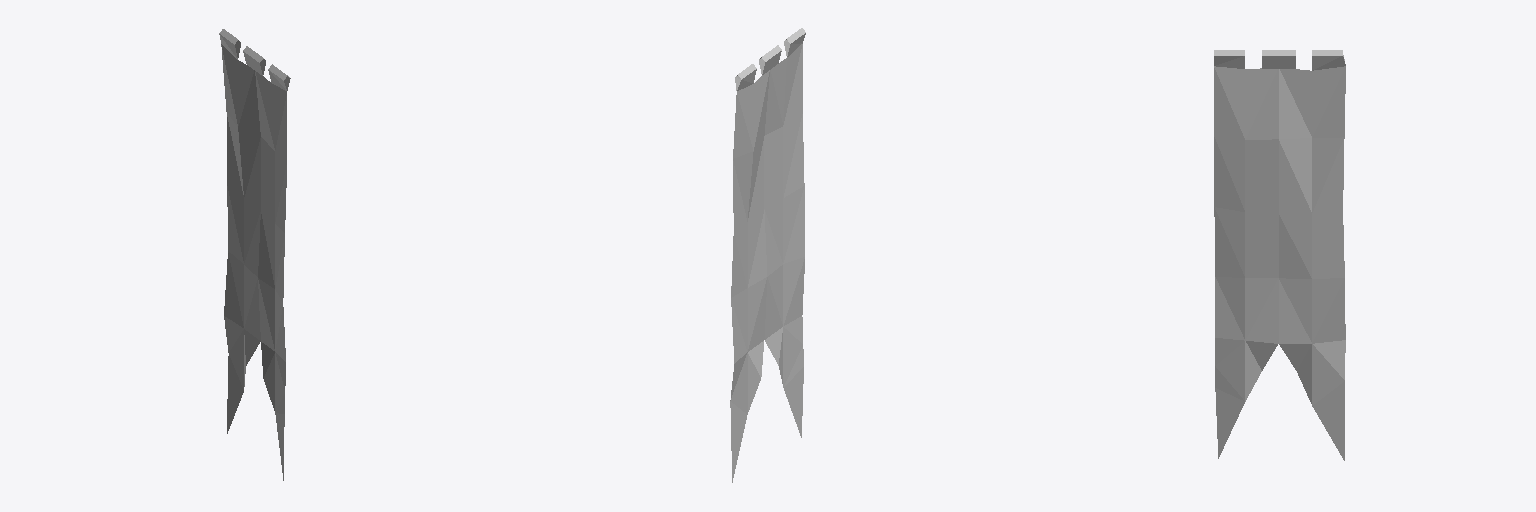
The model's file is Banner_cloth.obj.
3 renders of one model, left to right at view 1: azimuth 30°, elevation 25°; view 2: azimuth 150°, elevation 25°; view 3: azimuth 270°, elevation 25°, orthographic.
Parts seen in each view (by area): view 1: Banner; view 2: Banner; view 3: Banner.
Boxes of the visible parts, box(x1,y1,x2,y2) form: Banner: box(219, 29, 290, 480); Banner: box(730, 28, 805, 482); Banner: box(1214, 50, 1345, 460).
Size of the model in its own units: 62.05 by 2375 by 695.